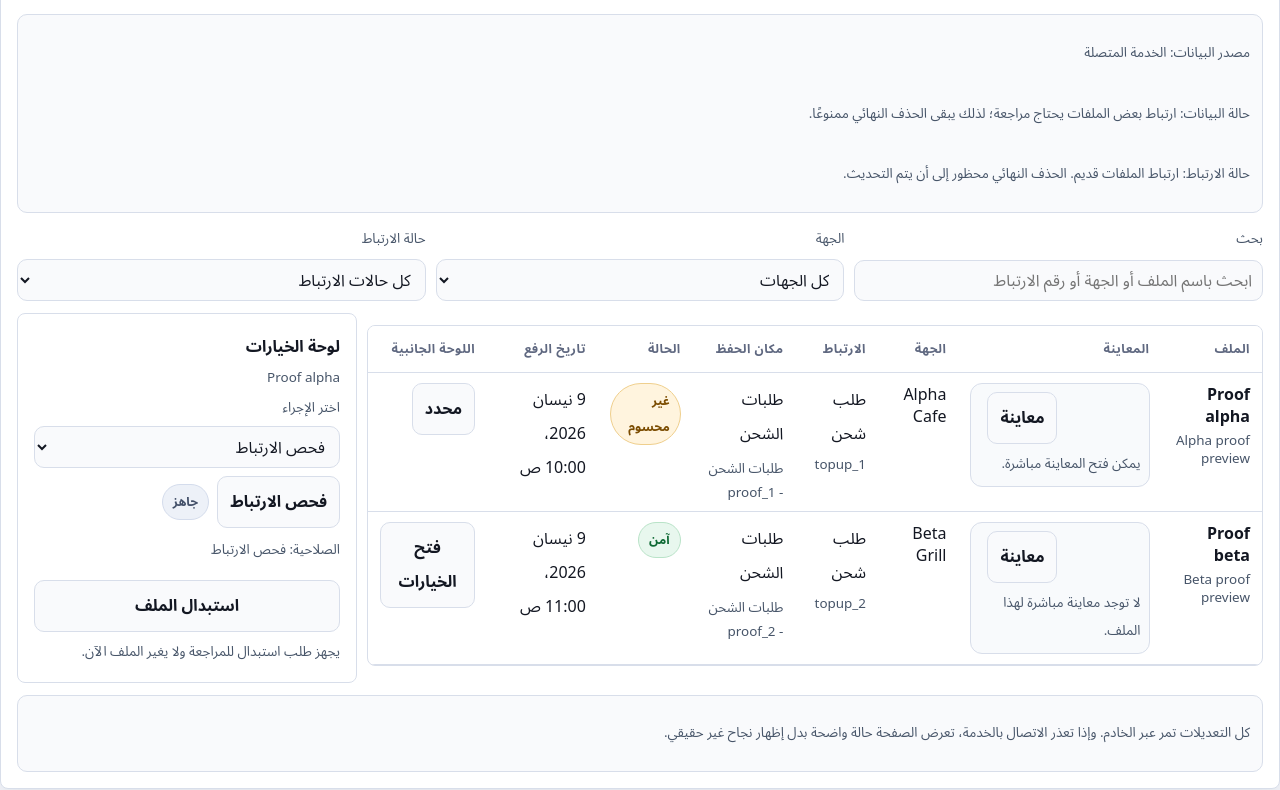
it: media center shell › shows conflict messaging when the transport reports expected-state drift
The image size is (1280, 790).
(page scrolled)
Select "إخفاء من القائمة" in the dropdown with test id "media-action-select-proof_1" at (187, 447), box [34, 426, 340, 468]
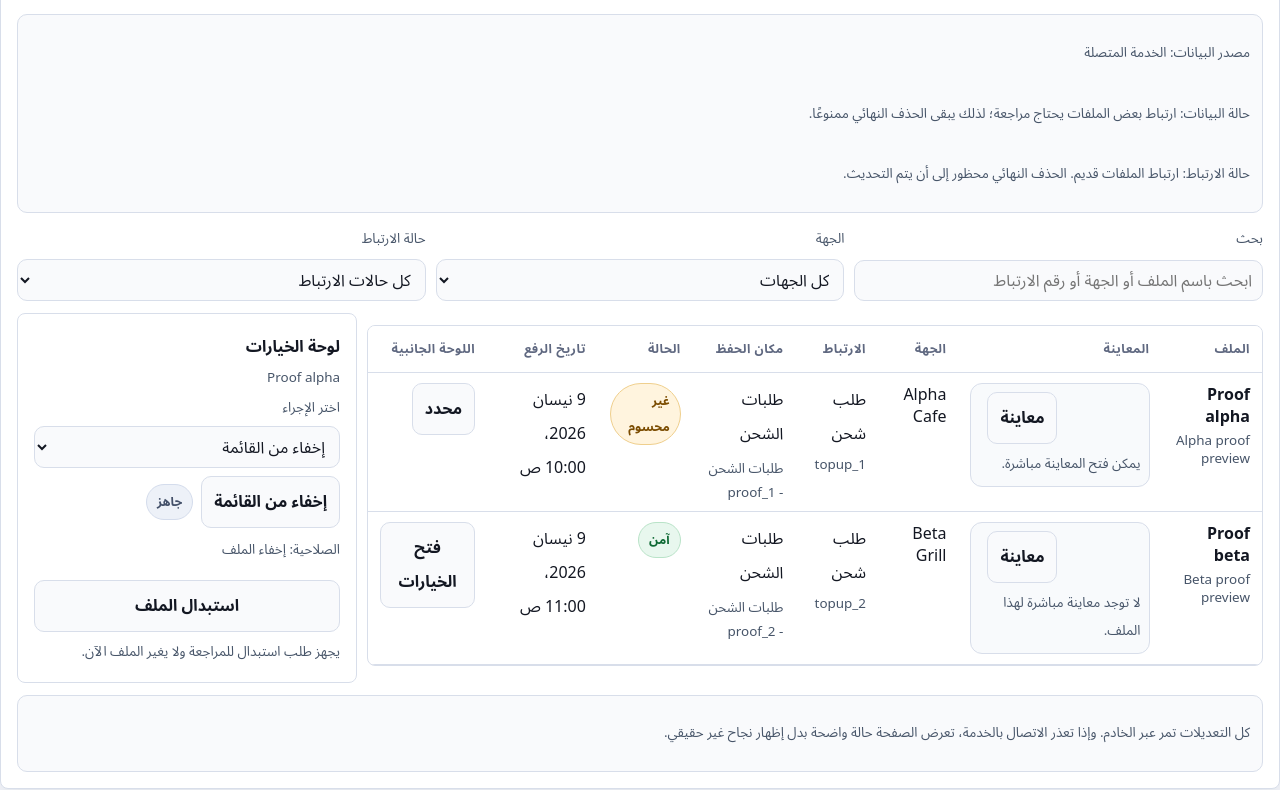
Click the button with test id "media-action-run-proof_1" at (271, 502), box [201, 476, 340, 528]
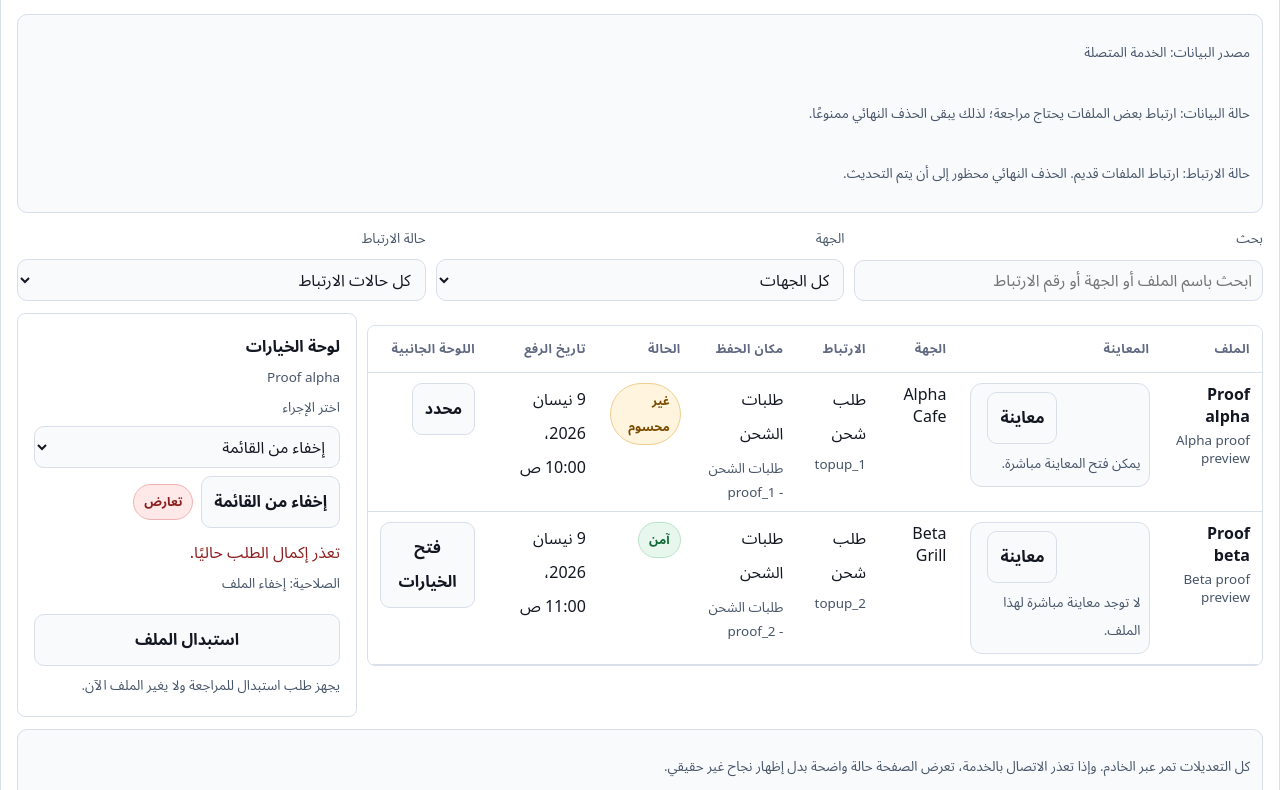
Expected: the message with test id "media-command-conflict-message" reads "تعذر إكمال الطلب حاليًا.", [190, 541, 340, 563]
